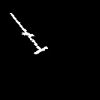double_crochet: (10, 13, 47, 53)
